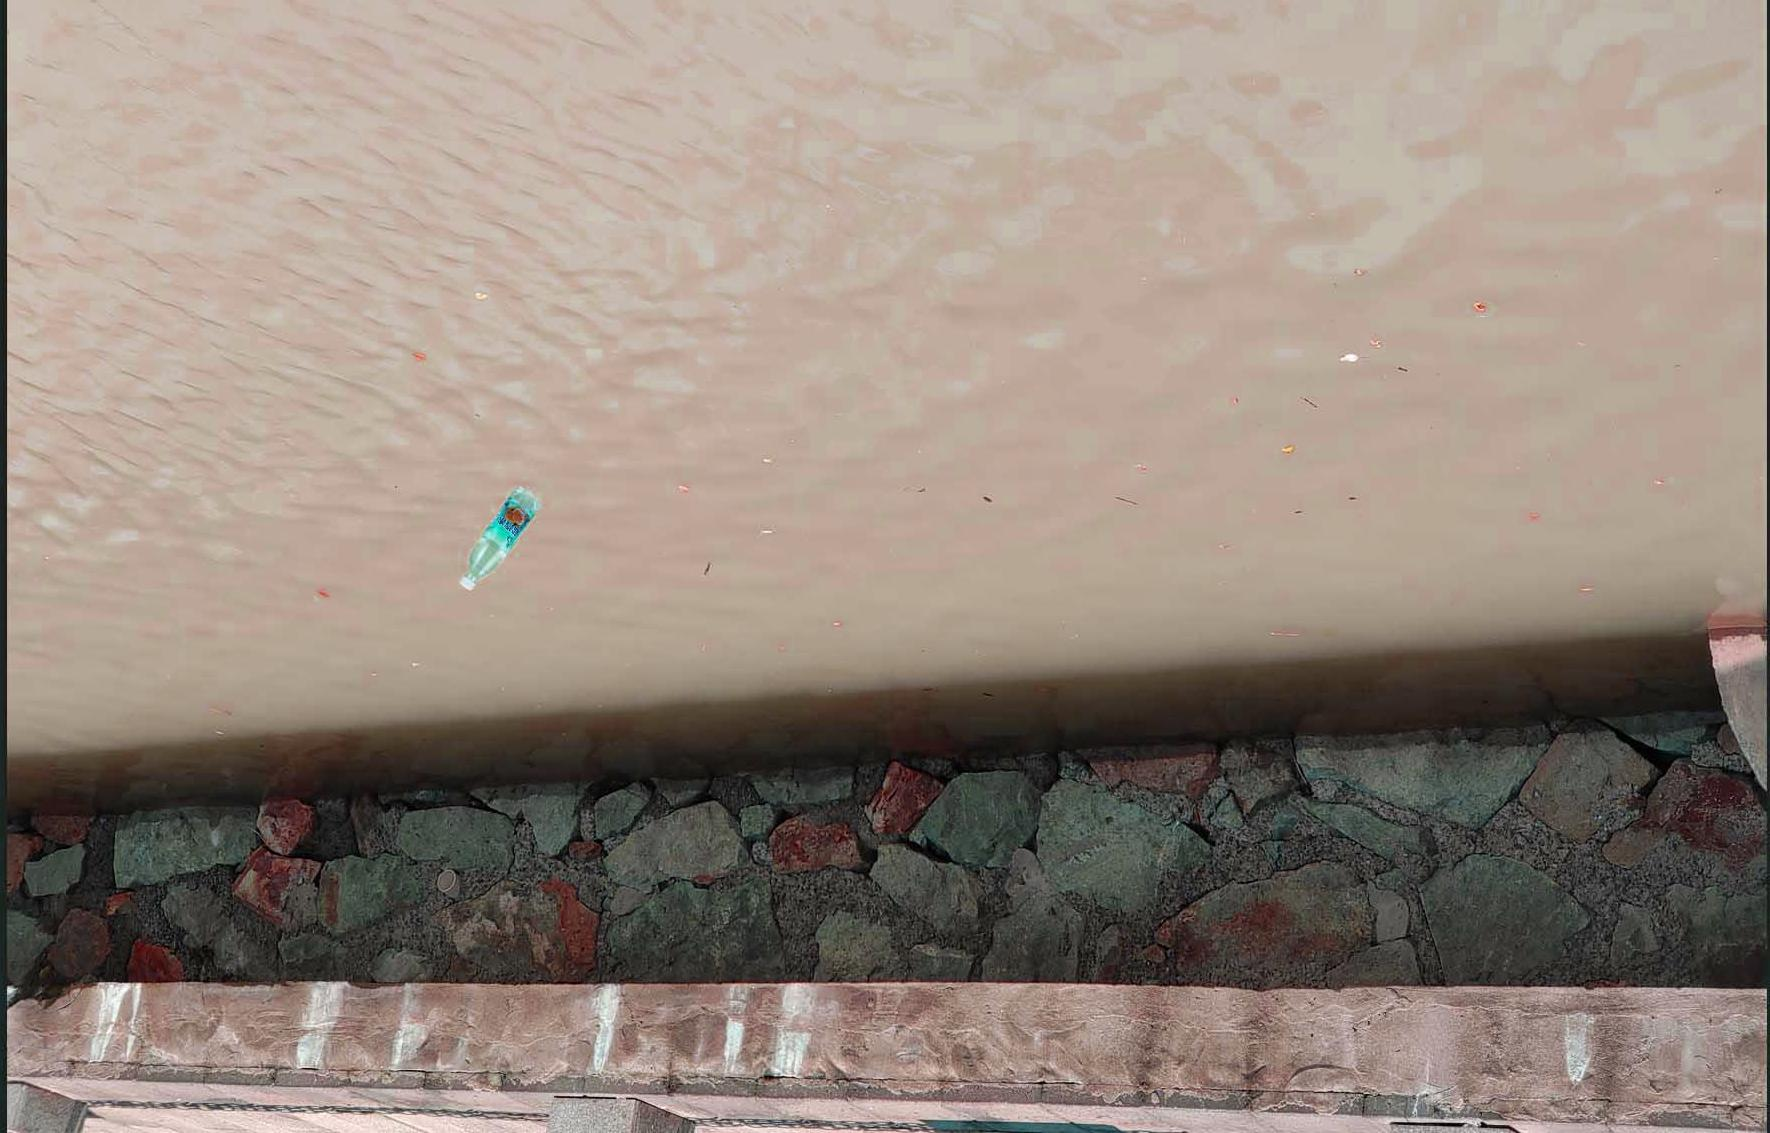Plastic: (458, 480, 543, 596)
